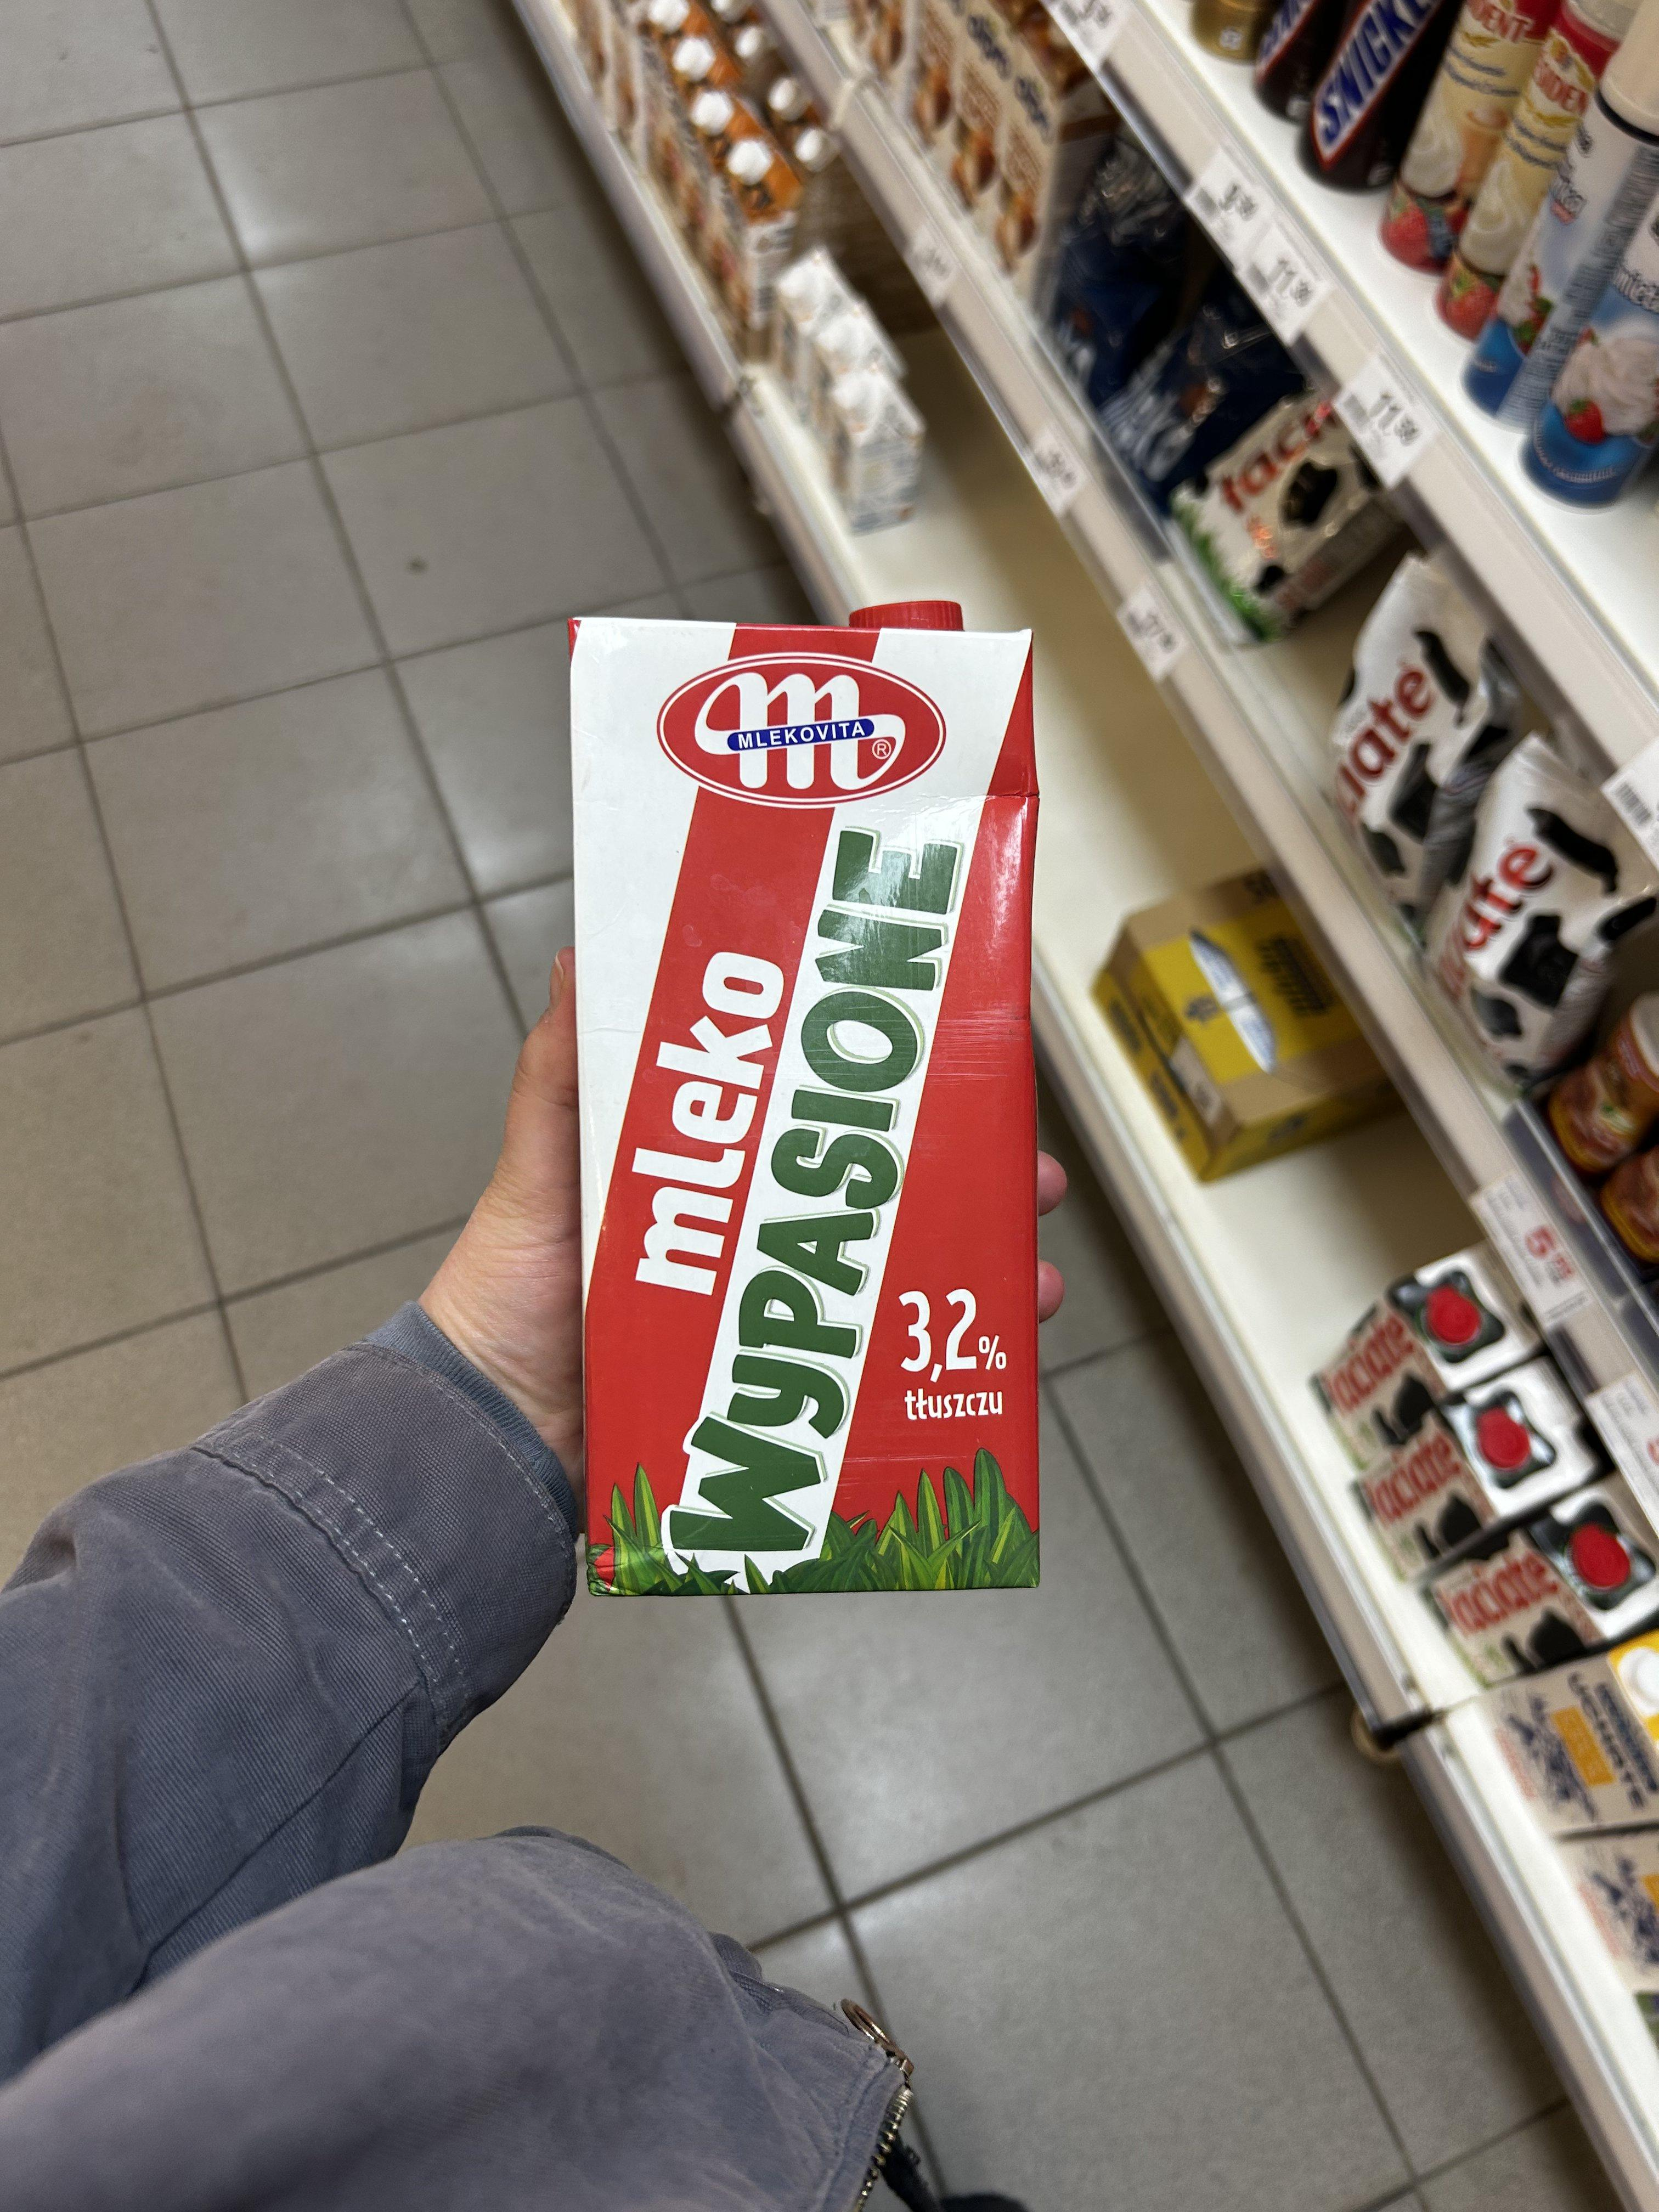Milk: (547, 566, 1044, 1608)
